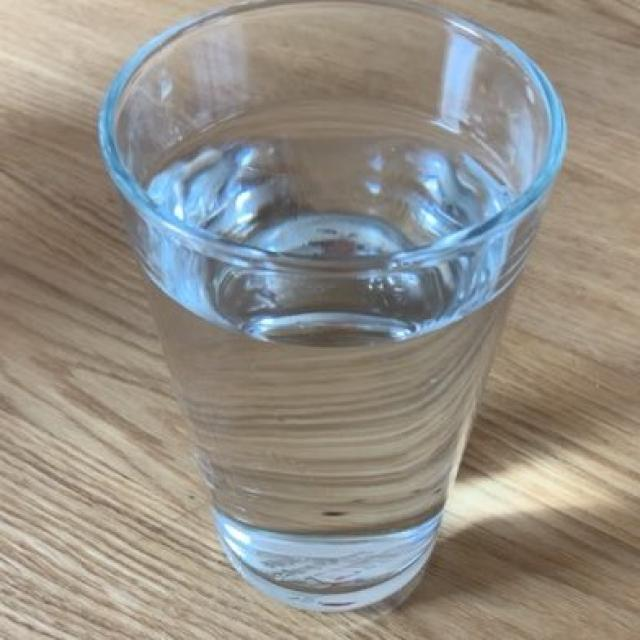water: (178, 127, 505, 353)
